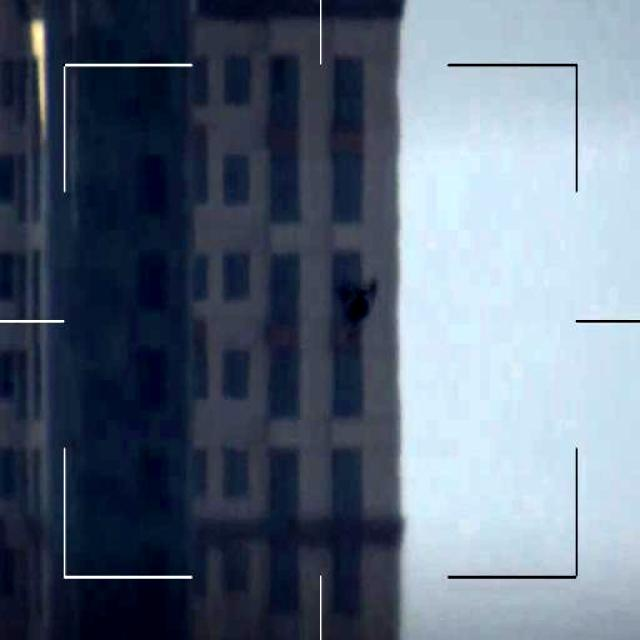bird: (331, 268, 384, 345)
